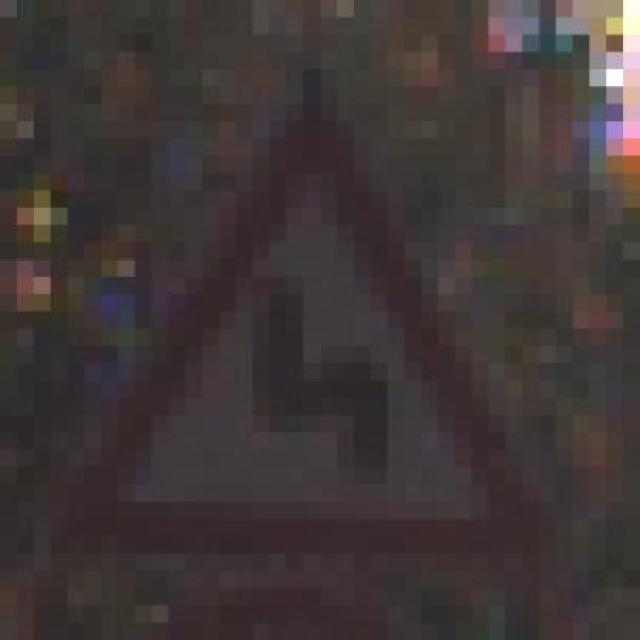Left Zig Zag Traffic: (67, 69, 556, 571)
